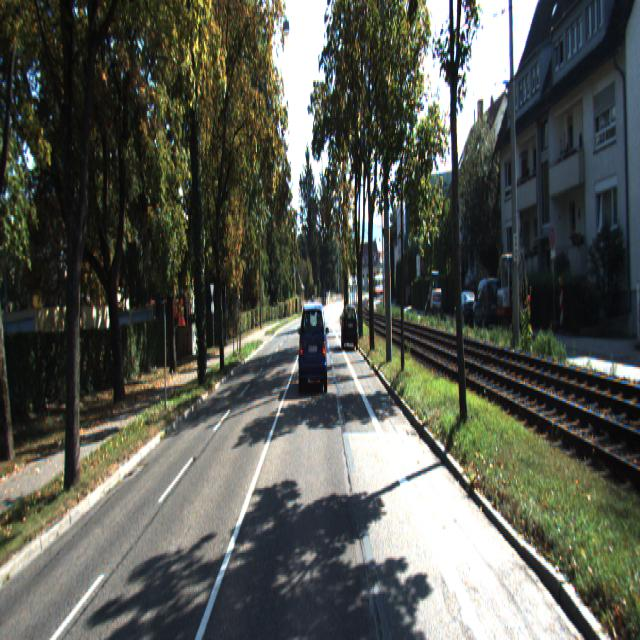Car: (298, 300, 328, 396), (496, 249, 520, 331), (472, 275, 502, 331), (454, 289, 480, 329), (341, 302, 358, 350), (430, 270, 441, 315)
